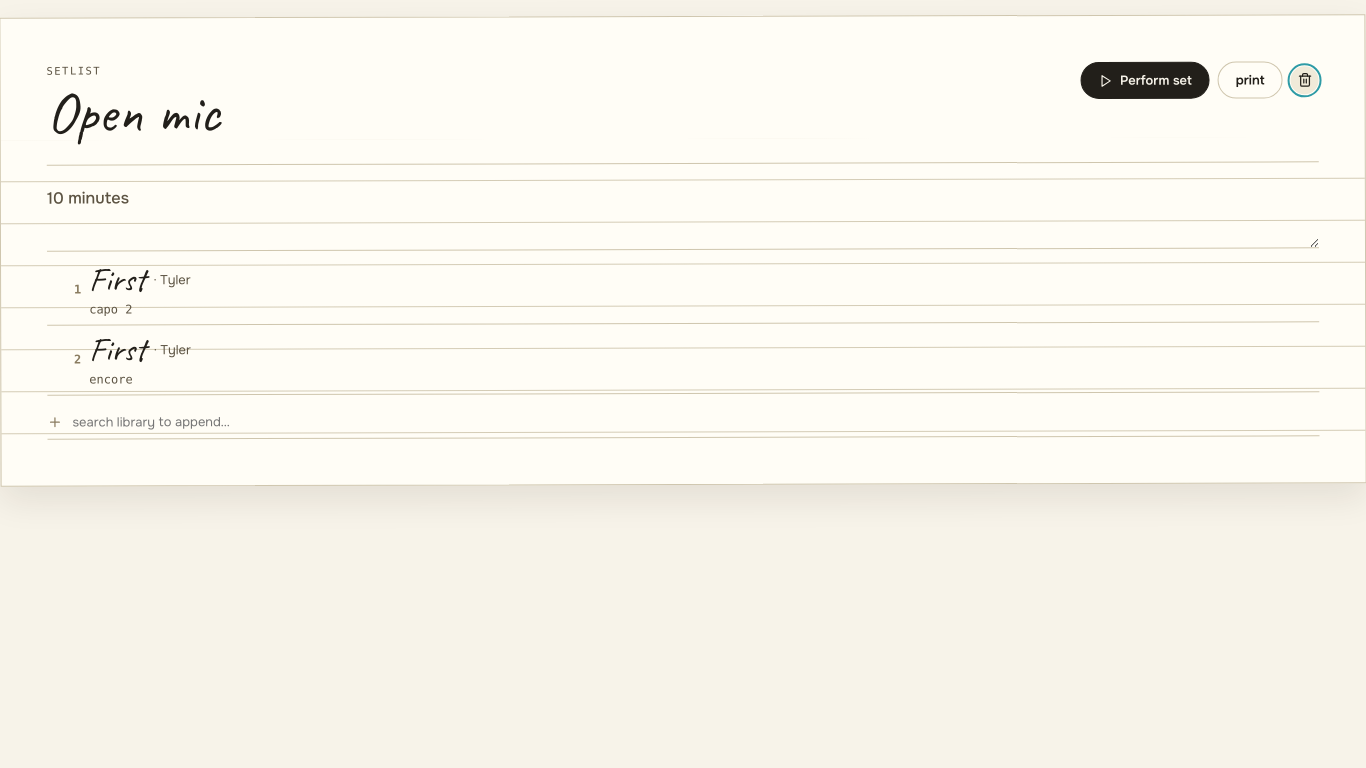
Test case: focuses Cancel, traps Tab, and returns focus on Escape from delete dialog
The image size is (1366, 768).
Click the button named "delete Open mic" at (1305,80), box x1=1290 y1=66 x2=1319 y2=94
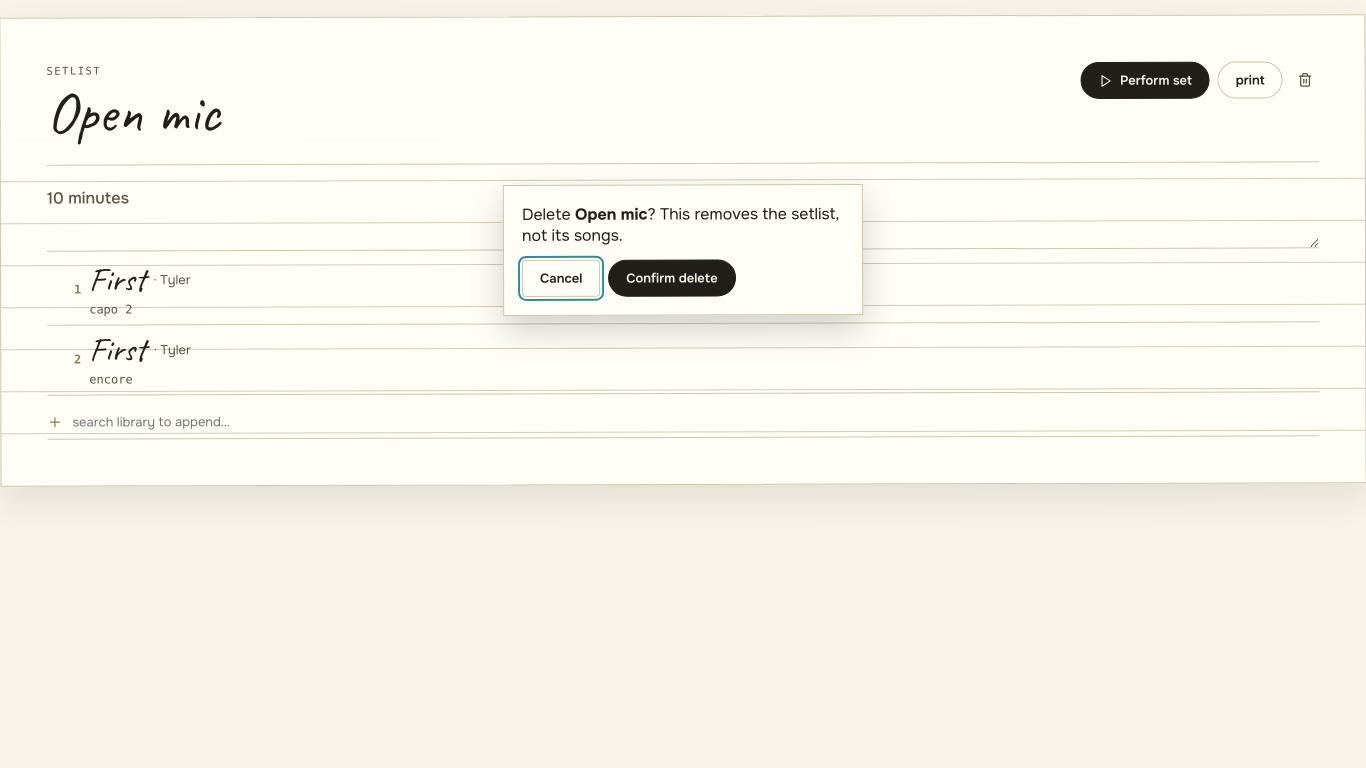
Press Tab in the button "Cancel", box x1=522 y1=260 x2=600 y2=297
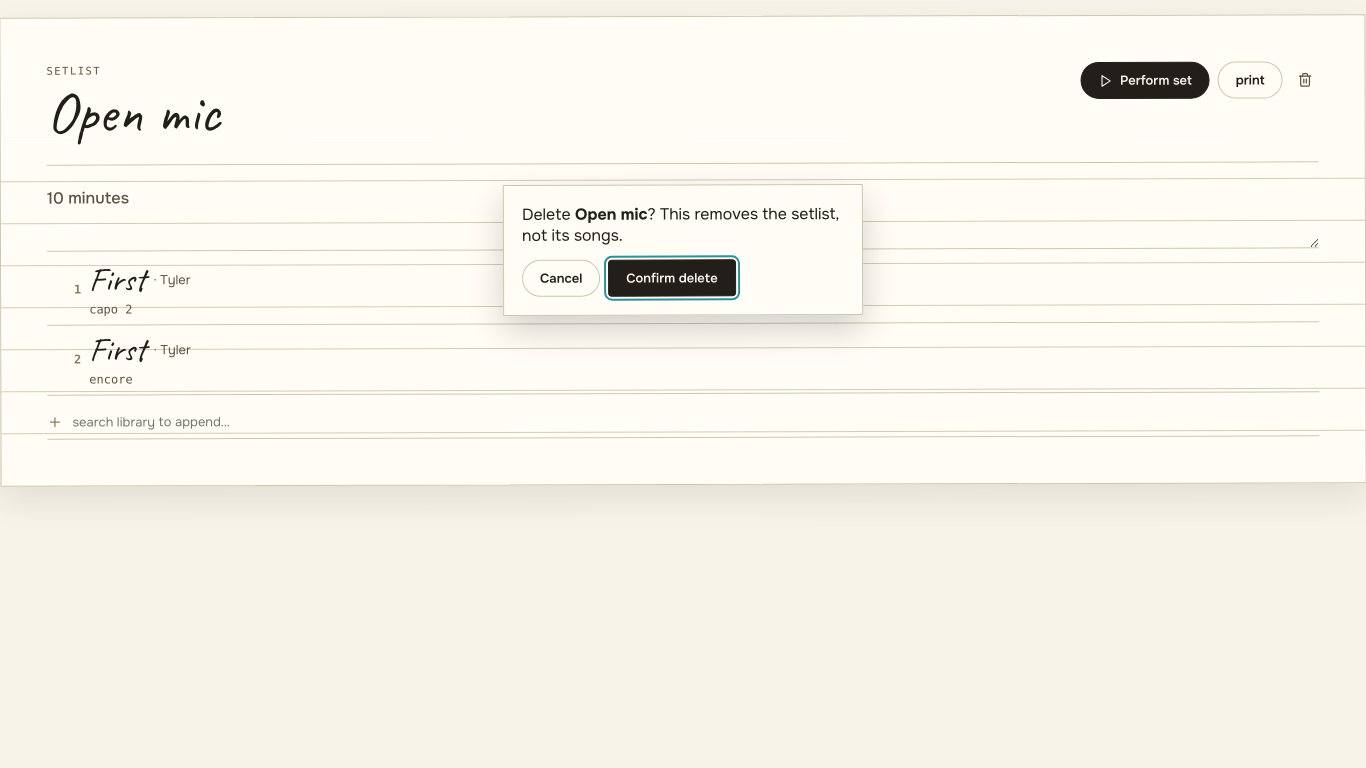
Press Tab in the button "Confirm delete", box x1=608 y1=260 x2=736 y2=297
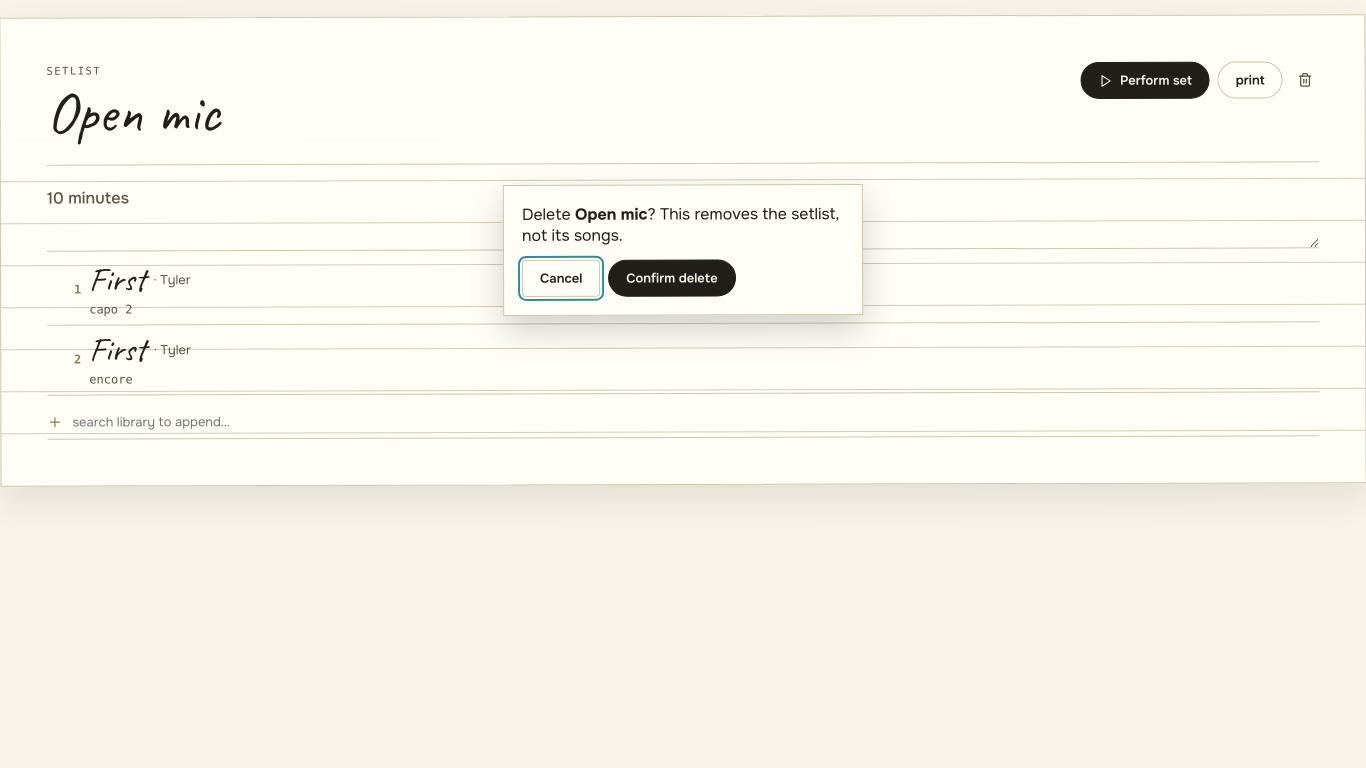
Press Escape in the button "Cancel", box x1=522 y1=260 x2=600 y2=297
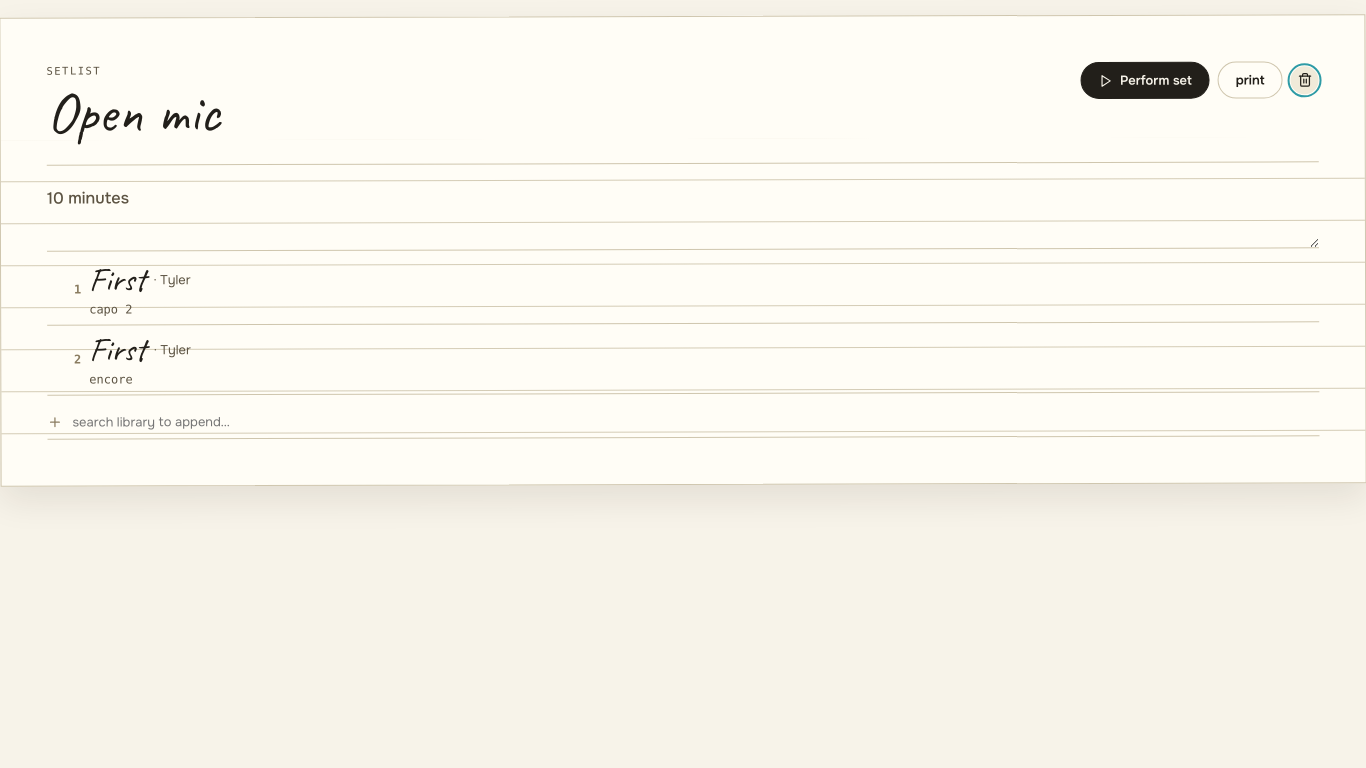
expect the dialog is gone: met
